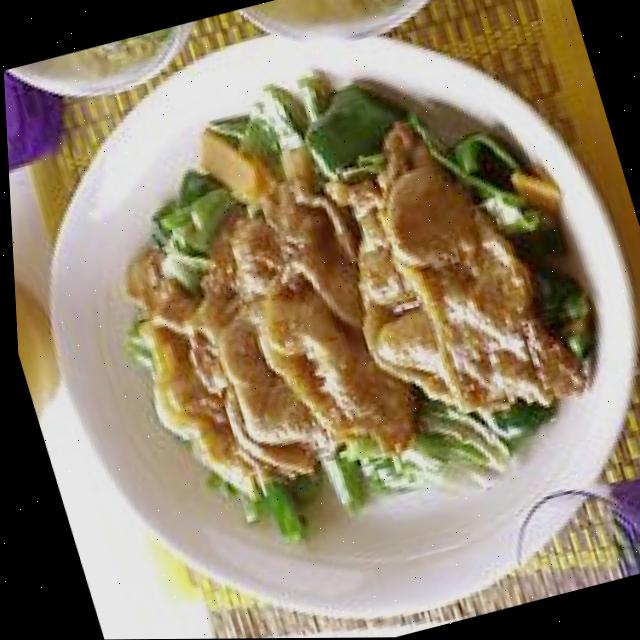猪肉菜式: (55, 79, 611, 600)
